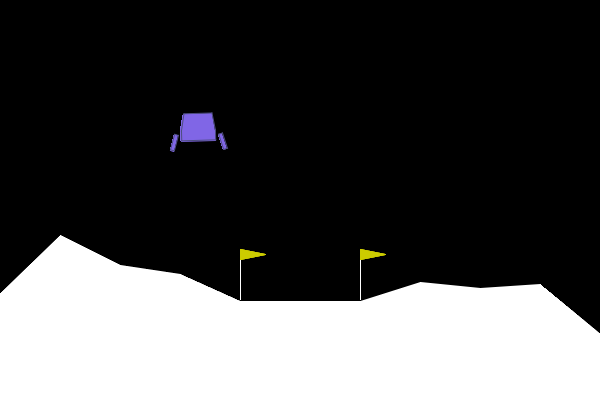lander: (167, 111, 229, 153)
